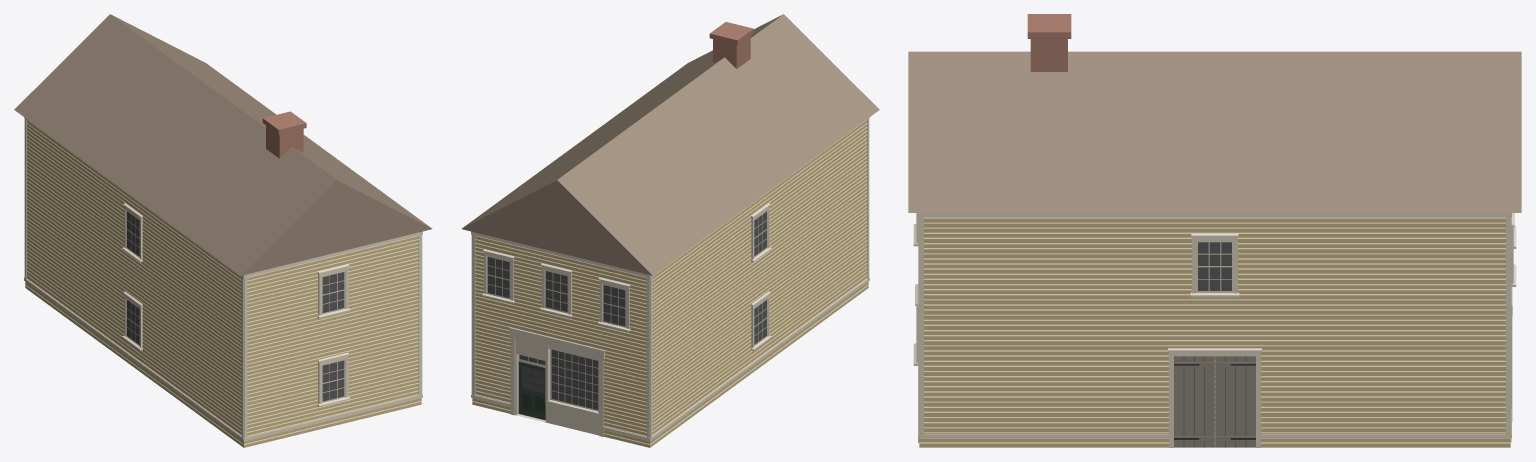
The model's file is recon_1835_blk_south_water_dearborn_c3_01__inferred_1835.glb.
3 views of the same model, side by side, from view 1: azimuth 30°, elevation 25°; view 2: azimuth 150°, elevation 25°; view 3: azimuth 270°, elevation 25° (orthographic). The views are drawn at different scales.
Parts seen in each view (by area): view 1: recon_1835_blk_south_water_dearborn_c3_01__inferred_1835; view 2: recon_1835_blk_south_water_dearborn_c3_01__inferred_1835; view 3: recon_1835_blk_south_water_dearborn_c3_01__inferred_1835.
Boxes of the visible parts, box(x1,y1,x2,y2) form: recon_1835_blk_south_water_dearborn_c3_01__inferred_1835: box(14, 14, 432, 447); recon_1835_blk_south_water_dearborn_c3_01__inferred_1835: box(461, 14, 879, 447); recon_1835_blk_south_water_dearborn_c3_01__inferred_1835: box(908, 14, 1521, 447).
Size of the model in its own units: 6.74 by 9.08 by 13.81.
